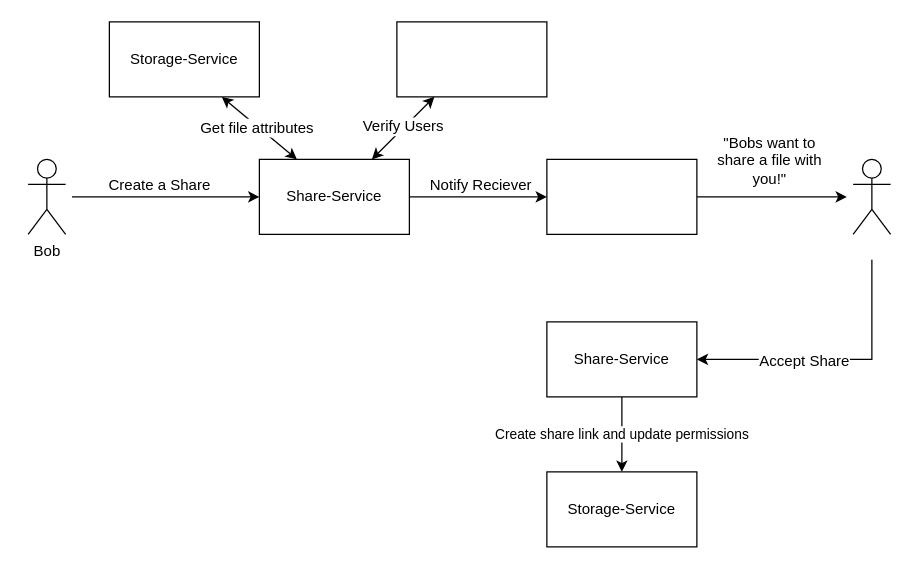
The diagram is 918 pixels wide and 569 high, and some of its shapes have lost their labels. The centre of each missing label's shape, as x and y in pixels:
"Alice" belongs at point 871,196.
"Authentication-Service" belongs at point 471,59.
"Notification-Service" belongs at point 621,196.
